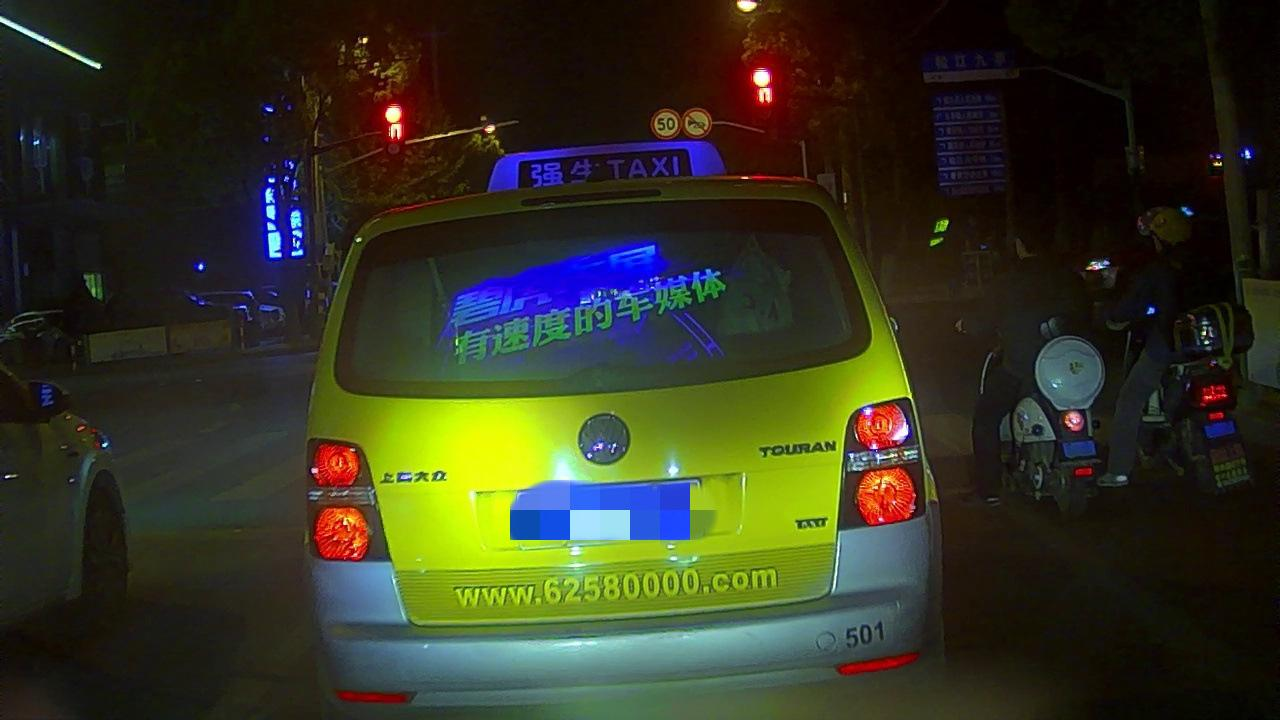traffic_light: (749, 62, 778, 111), (384, 101, 407, 147)
